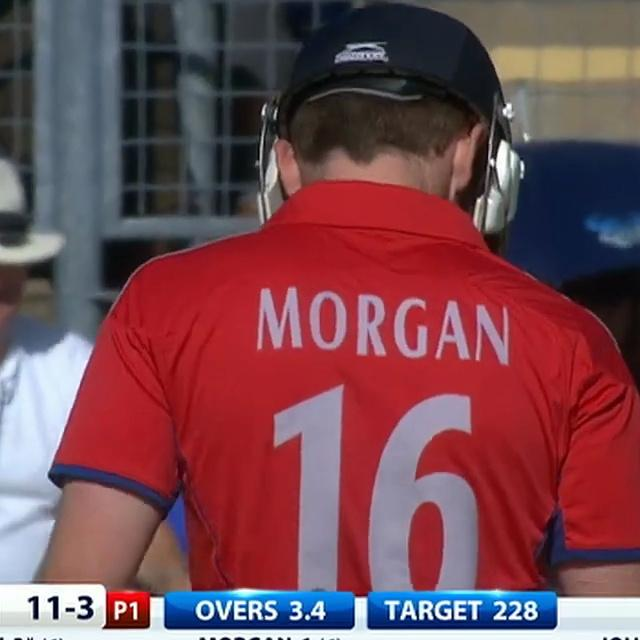person: (0, 119, 100, 597)
